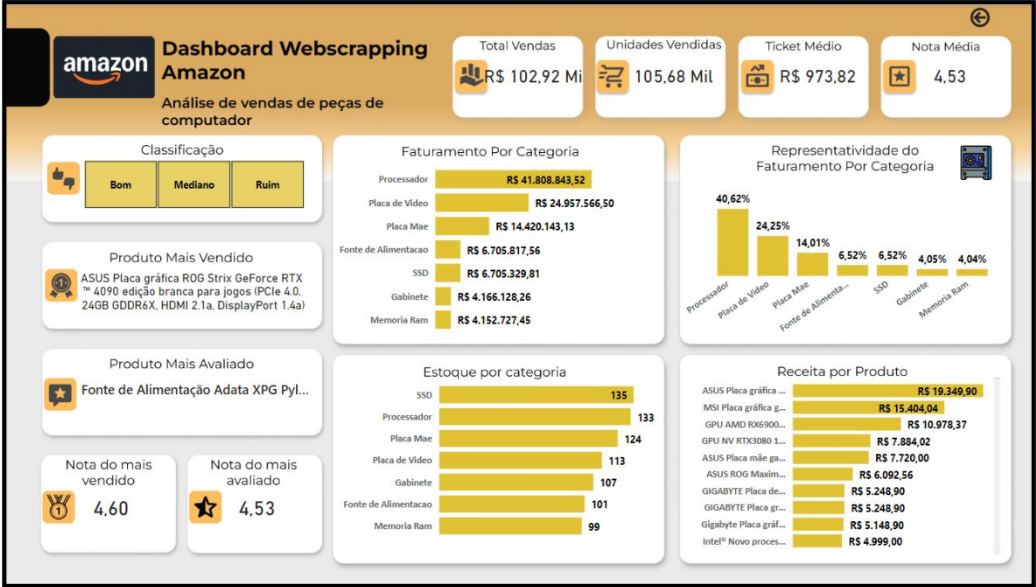

This screenshot's page, from the dashboard's own definition file:
{"tool":"powerbi","page":{"name":"Detalhes","canvas":[1280,720],"ordinal":1},"visuals":[{"type":"card","fields":{"Values":["Medidas.Faturamento total"]},"box":[582.5,58.8,133.8,60],"z":0},{"type":"card","fields":{"Values":["Medidas.Total Avaliacoes"]},"box":[746.2,58.8,150,60],"z":1000},{"type":"columnChart","title":"Representatividade do Faturamento por Categoria","fields":{"Category":["d_Categoria.Categoria"],"Y":["Sum(f_Estoque.Faturamento por Produto)"]},"box":[830.5,199.1,402.5,217.5],"z":2000,"group":"g1"},{"type":"card","fields":{"Values":["Medidas.Ticket Médio"]},"box":[925.6,58.9,145.6,60],"z":2000},{"type":"image","box":[1156.7,169,72.5,52.5],"z":3000,"group":"g1"},{"type":"card","fields":{"Values":["Avg(f_Estoque.Classificação)"]},"box":[1095,58.8,132.5,60],"z":3000},{"type":"slicer","title":"Avaliação","fields":{"Values":["f_Estoque.Nota por qualidade"]},"box":[71.4,185.7,318.9,71.4],"z":4000},{"type":"card","title":"Produto mais Rentável","fields":{"Values":["Min(d_Produtos.Descricao_Produto)"]},"box":[71.2,311.2,318.8,83.8],"z":5000},{"type":"multiRowCard","title":"Produto mais Avaliado","fields":{"Values":["Min(d_Produtos.Descricao_Produto)"]},"box":[87.5,457.5,290,65],"z":6000},{"type":"barChart","title":"Valor Total por categoria de Produto","fields":{"Category":["d_Categoria.Categoria","d_Produtos.Descricao_Produto"],"Y":["Sum(f_Estoque.Faturamento por Produto)"]},"box":[404.6,179.7,404.6,236.8],"z":7000},{"type":"barChart","title":"Total de Produtos por Categoria","fields":{"Category":["d_Categoria.Categoria"],"Y":["Medidas.Total Produtos"]},"box":[408.9,446.7,394.4,222.2],"z":8000},{"type":"barChart","title":"Receita por Produto","fields":{"Category":["d_Produtos.Descricao_Produto"],"Y":["Medidas.Ticket Médio"]},"box":[838.9,446.7,388.9,235.6],"z":9000},{"type":"group","id":"g1","title":"Grupo 2","box":[830.5,169,402.5,247.6],"z":10000},{"type":"card","fields":{"Values":["Median(f_Estoque.Classificação.1)"]},"box":[77.5,580,105,78.8],"z":11000},{"type":"card","fields":{"Values":["Avg(f_Estoque.Classificação)"]},"box":[248.8,577.5,121.2,83.8],"z":12000},{"type":"actionButton","title":"Voltar","box":[1181.2,0,92.5,32.5],"z":13000}]}

Visuals, with their boxes in screenshot pixels (x1, y1, x2, y2), scaled from the page's 1280x720 canvas onto the 1036x587 screenshot:
card - Medidas.Faturamento total: 471,48,580,97
card - Medidas.Total Avaliacoes: 604,48,725,97
"Representatividade do Faturamento por Categoria" columnChart: 672,162,998,340
card - Medidas.Ticket Médio: 749,48,867,97
image: 936,138,995,181
card - Avg(f_Estoque.Classificação): 886,48,994,97
"Avaliação" slicer: 58,151,316,210
"Produto mais Rentável" card: 58,254,316,322
"Produto mais Avaliado" multiRowCard: 71,373,306,426
"Valor Total por categoria de Produto" barChart: 327,147,655,340
"Total de Produtos por Categoria" barChart: 331,364,650,545
"Receita por Produto" barChart: 679,364,994,556
"Grupo 2" group: 672,138,998,340
card - Median(f_Estoque.Classificação.1): 63,473,148,537
card - Avg(f_Estoque.Classificação): 201,471,299,539
"Voltar" actionButton: 956,0,1031,26
